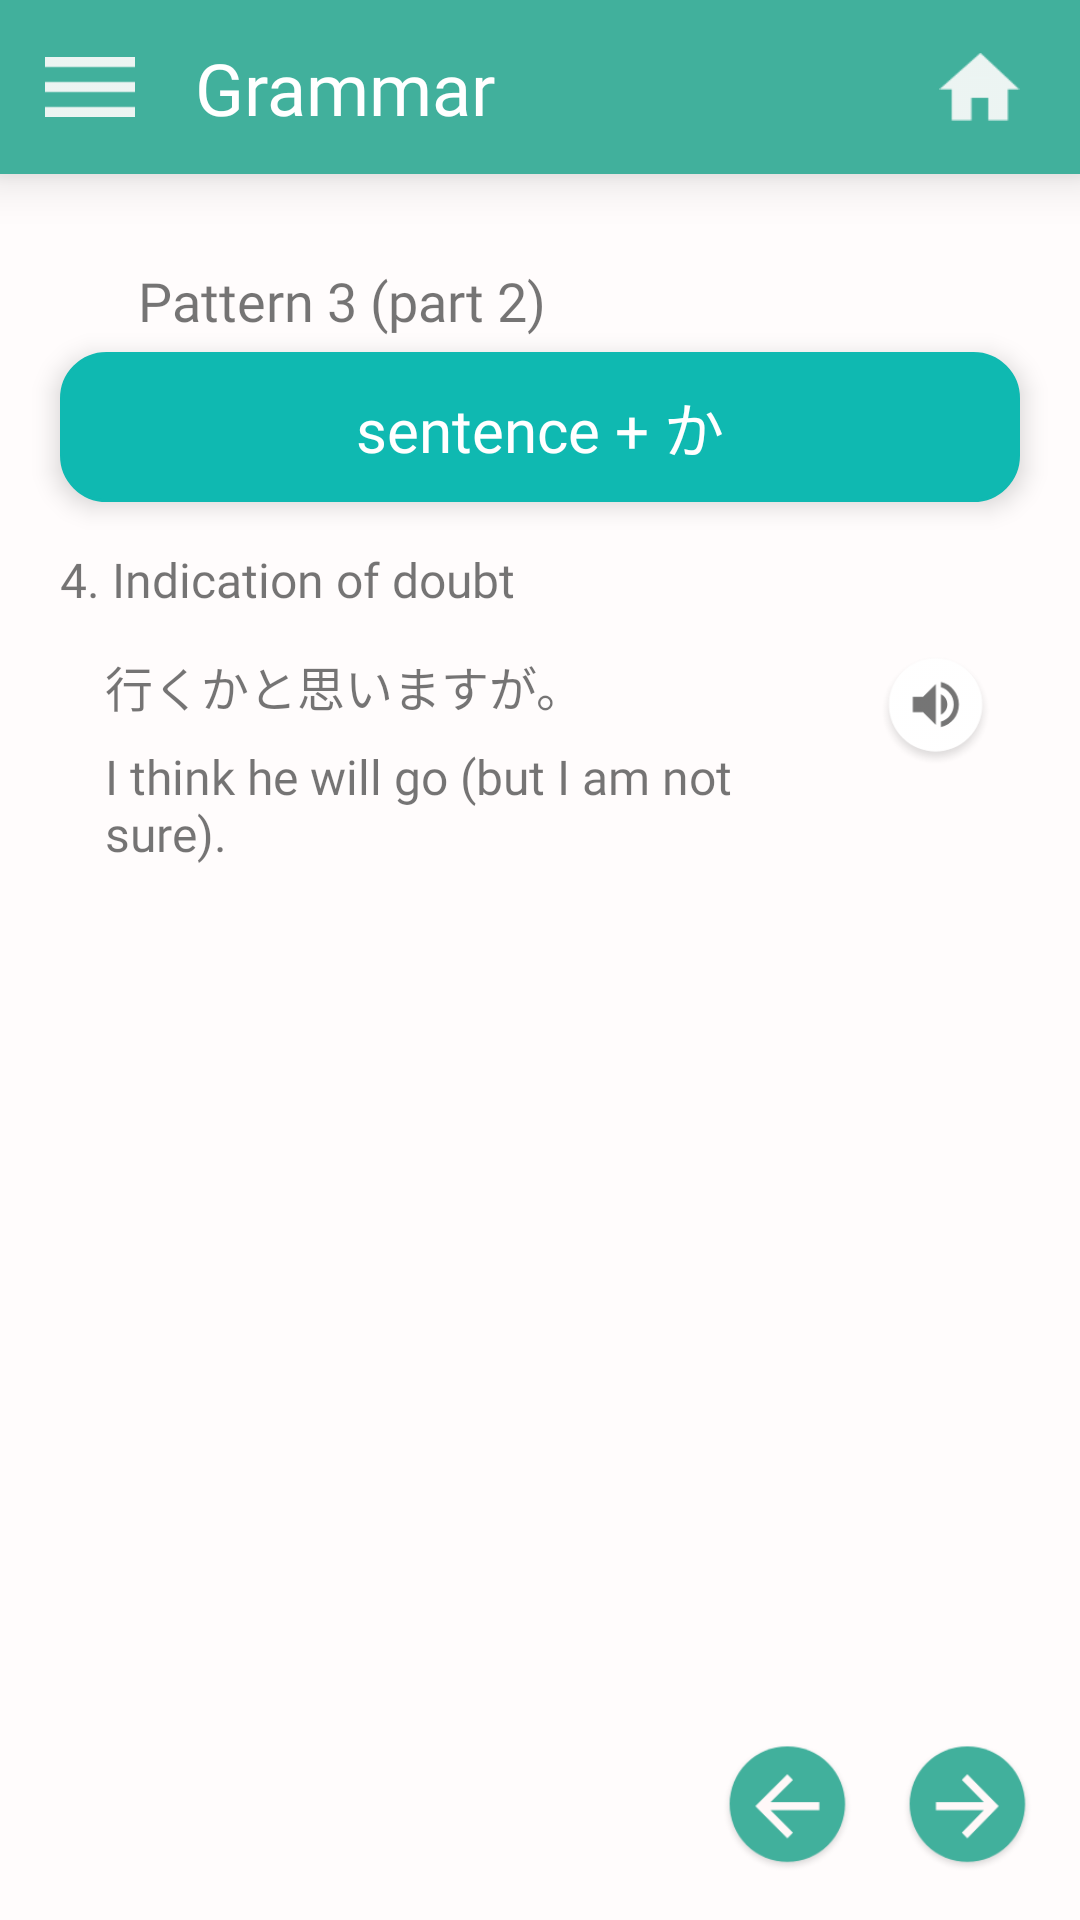

Named icons in this screenshot (1080×1920) and their bounding boxes, (left=x1, top=y1, right=x2, bottom=y2):
audio grammar: (left=902, top=682, right=973, bottom=754)
back: (left=729, top=1746, right=846, bottom=1864)
forward: (left=909, top=1746, right=1026, bottom=1864)
home: (left=939, top=53, right=1020, bottom=121)
